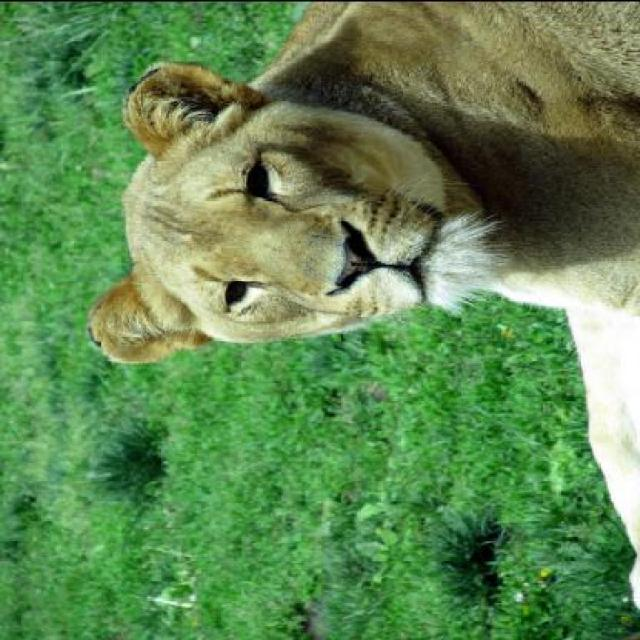Lion: (66, 3, 639, 639)
